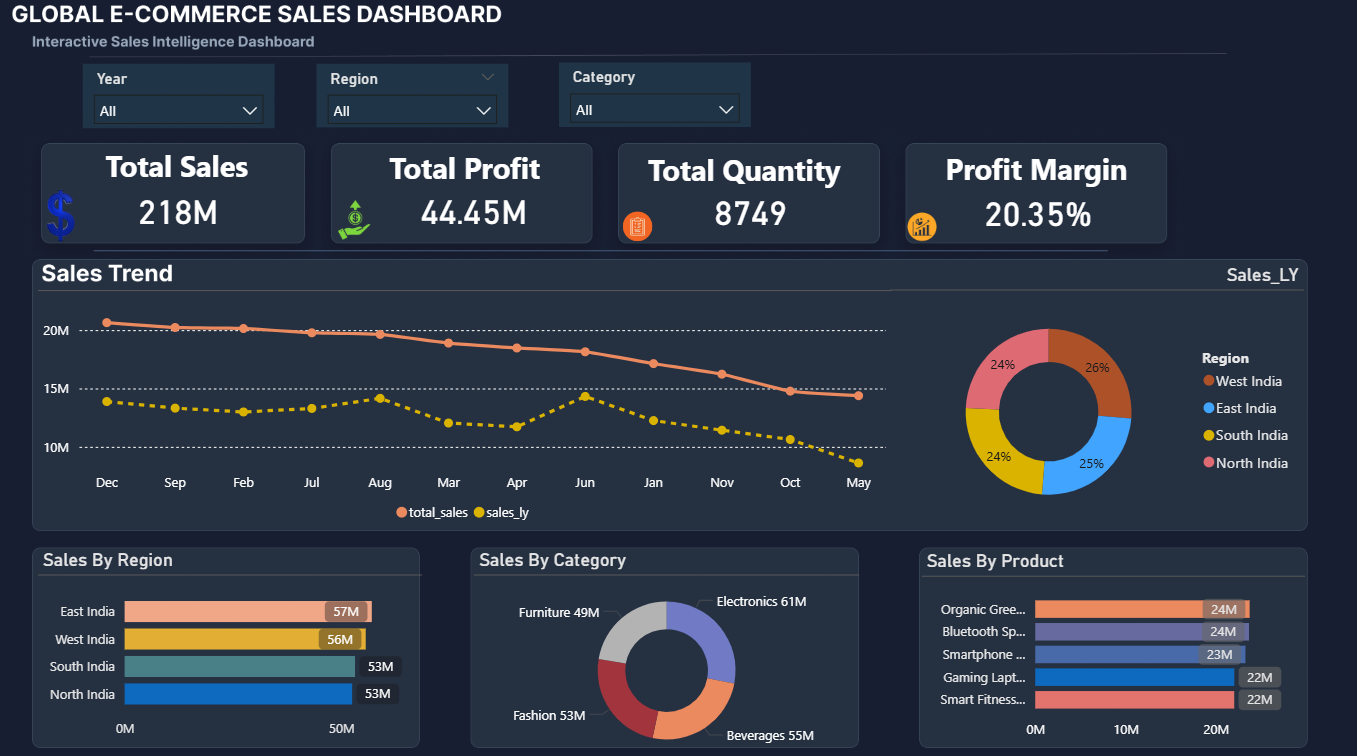

The dashboard page shown, as its layout file describes it:
{"tool":"powerbi","page":{"name":"overview","canvas":[1280,720],"ordinal":0},"visuals":[{"type":"card","fields":{"Values":["calculate.total_sales"]},"box":[112.8,176.7,126.7,55.8],"z":0},{"type":"image","box":[31.4,182.6,72.1,58.1],"z":1000},{"type":"textbox","box":[103.5,140.7,167.4,50],"z":2000},{"type":"card","fields":{"Values":["calculate.total_profit"]},"box":[386,168.6,130.2,72.1],"z":3000},{"type":"textbox","box":[367.4,141.9,167.4,50],"z":4000},{"type":"image","box":[320.9,190.7,37.2,46.5],"z":5000},{"type":"textbox","box":[608.1,144.2,201.2,50],"z":6000},{"type":"card","fields":{"Values":["calculate.total_quantity"]},"box":[658.1,169.8,101.2,70.9],"z":7000},{"type":"image","box":[583.7,204.7,39.5,31.4],"z":8000},{"type":"textbox","box":[884.9,143,201.2,50],"z":9000},{"type":"card","fields":{"Values":["calculate.profit_margin"]},"box":[920.9,175.6,110.5,61.6],"z":10000},{"type":"image","box":[851.2,204.7,33.7,31.4],"z":11000},{"type":"lineChart","fields":{"Category":["Date_Dim.Month"],"Y":["calculate.total_sales","calculate.sales_ly"]},"box":[45.3,274.4,794.2,229.1],"z":12000},{"type":"donutChart","title":"Sales_LY","fields":{"Y":["calculate.sales_ly"],"Category":["Region_Dim.Region"]},"box":[838.8,255,385,248.8],"z":13000},{"type":"clusteredBarChart","title":"Sales By Region","fields":{"Y":["calculate.total_sales"],"Category":["Region_Dim.Region"]},"box":[45,520,357.5,183.8],"z":14000},{"type":"donutChart","title":"Sales By Category","fields":{"Category":["Sales_Fact.Category"],"Y":["calculate.total_sales"]},"box":[451.2,520,358.8,200],"z":15000},{"type":"clusteredBarChart","title":"Sales By Product","fields":{"Category":["Sales_Fact.Product Name"],"Y":["calculate.total_sales"]},"box":[867.5,520.5,356.6,184.3],"z":16000},{"type":"slicer","fields":{"Values":["Date_Dim.Year"]},"box":[86.7,68.7,178.3,60.2],"z":17000},{"type":"slicer","fields":{"Values":["Sales_Fact.Region"]},"box":[304.8,68.7,178.3,59],"z":18000},{"type":"slicer","fields":{"Values":["Sales_Fact.Category"]},"box":[530.1,67.5,178.3,60.2],"z":19000}]}

Visuals, with their boxes in screenshot pixels (x1, y1, x2, y2), scaled from the page's 1280x720 canvas onto the 1357x756 screenshot:
card - calculate.total_sales: BBox(120, 186, 254, 244)
image: BBox(33, 192, 110, 253)
textbox: BBox(110, 148, 287, 200)
card - calculate.total_profit: BBox(409, 177, 547, 253)
textbox: BBox(390, 149, 567, 201)
image: BBox(340, 200, 380, 249)
textbox: BBox(645, 151, 858, 204)
card - calculate.total_quantity: BBox(698, 178, 805, 253)
image: BBox(619, 215, 661, 248)
textbox: BBox(938, 150, 1151, 203)
card - calculate.profit_margin: BBox(976, 184, 1093, 249)
image: BBox(902, 215, 938, 248)
lineChart - Date_Dim.Month x calculate.total_sales: BBox(48, 288, 890, 529)
"Sales_LY" donutChart: BBox(889, 268, 1297, 529)
"Sales By Region" clusteredBarChart: BBox(48, 546, 427, 739)
"Sales By Category" donutChart: BBox(478, 546, 859, 755)
"Sales By Product" clusteredBarChart: BBox(920, 547, 1298, 740)
slicer - Date_Dim.Year: BBox(92, 72, 281, 135)
slicer - Sales_Fact.Region: BBox(323, 72, 512, 134)
slicer - Sales_Fact.Category: BBox(562, 71, 751, 134)
